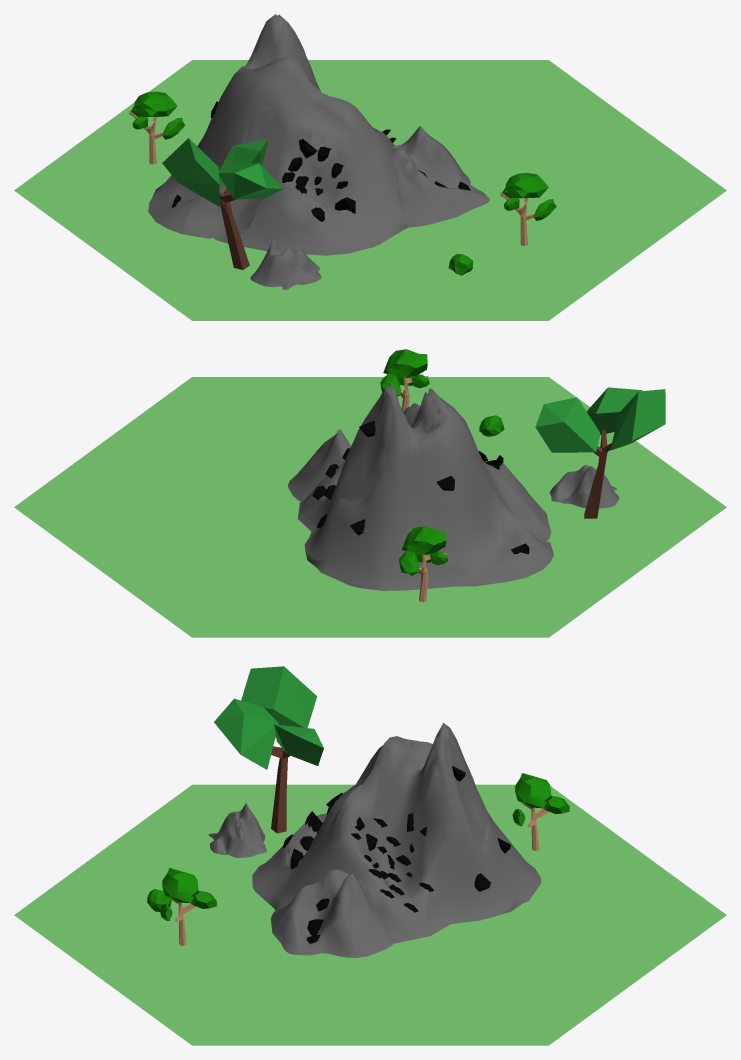
The model's file is Hexagone ressource obsidienne .fbx.
3 renders of one model, top to bottom at view 1: azimuth 30°, elevation 25°; view 2: azimuth 150°, elevation 25°; view 3: azimuth 270°, elevation 25°, orthographic.
Parts seen in each view (by area): view 1: Cylinder; view 2: Cylinder; view 3: Cylinder.
Part boxes in pixels (left/top/right/bottom): Cylinder: left=14, top=14, right=726, bottom=320; Cylinder: left=14, top=349, right=726, bottom=637; Cylinder: left=14, top=666, right=726, bottom=1045.
Bounding box in the file's own units: 17.32 × 20 × 5.23.
